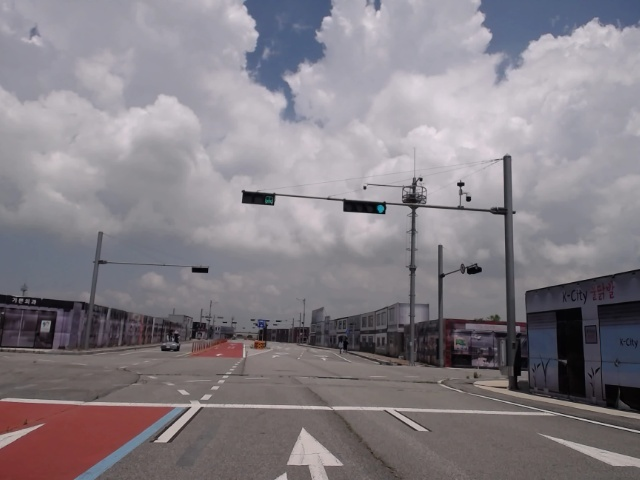straight_green_4: (344, 201, 386, 214)
